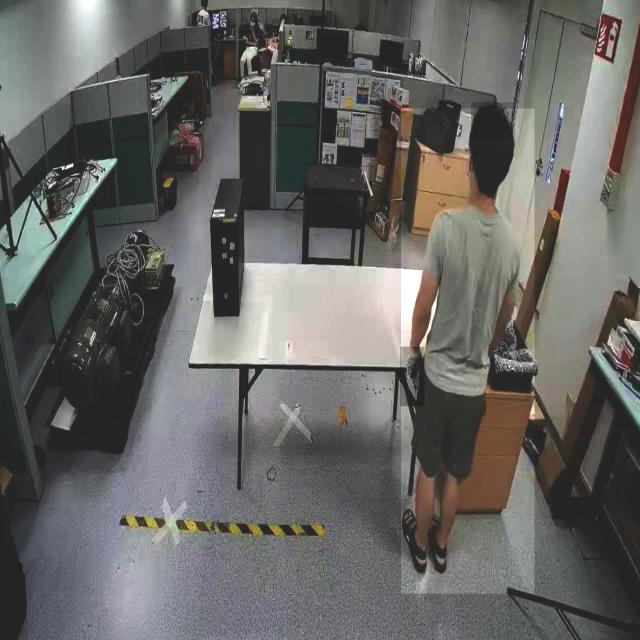face_mask: (246, 15, 256, 35)
hand_glove: (400, 347, 424, 407)
head_nohelmet: (471, 102, 515, 140), (251, 9, 258, 16)
person: (400, 108, 534, 594), (234, 12, 267, 79)
